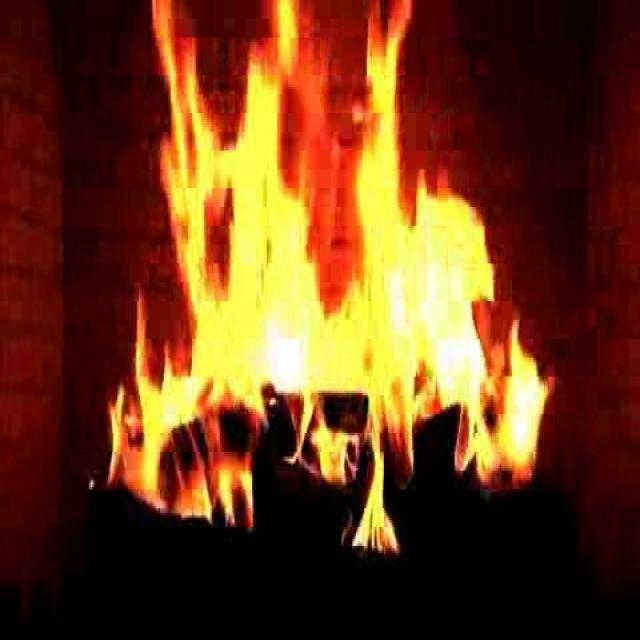Fire: (113, 0, 640, 541)
